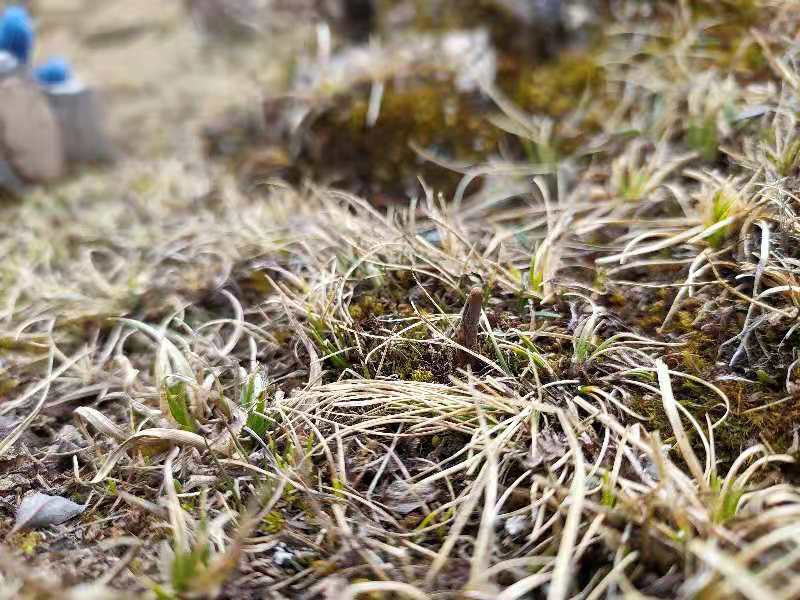Chongcao: (455, 286, 483, 355)
